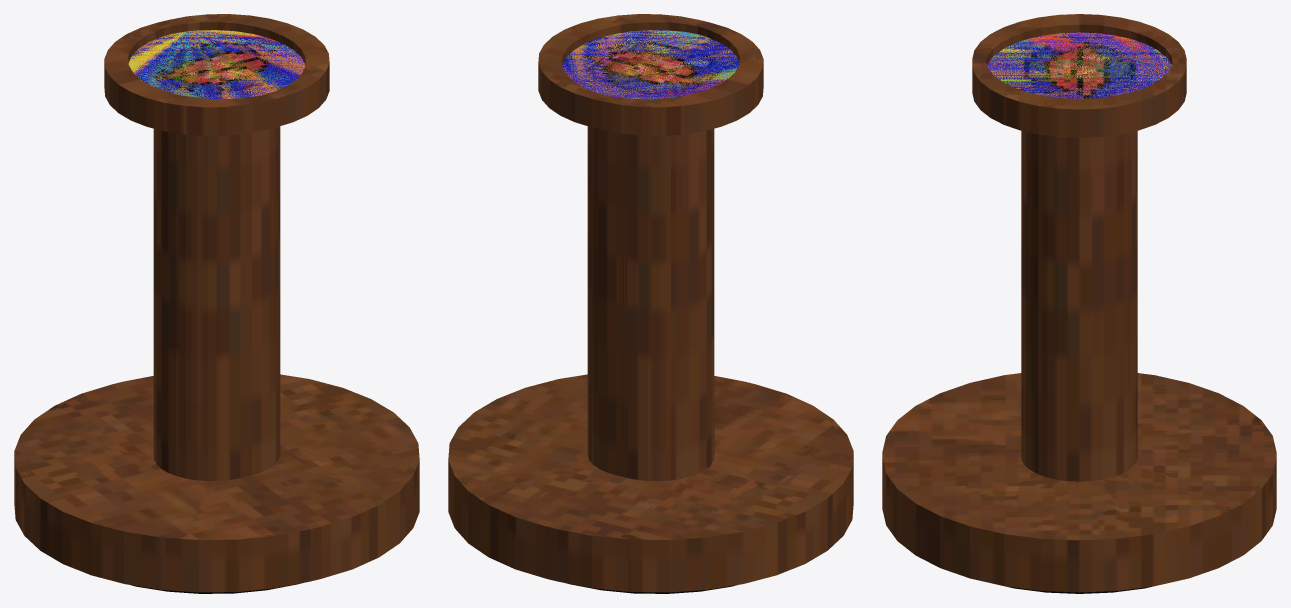
File: Stamps.fbx
The picture shows the model from 3 angles, left to right: view 1: azimuth 30°, elevation 25°; view 2: azimuth 150°, elevation 25°; view 3: azimuth 270°, elevation 25°; orthographic projection.
Visible parts, largest first — view 1: StampEnvy, StampGluttony, StampLust, StampGreed, StampWrath, StampPride, StampSloth; view 2: StampEnvy, StampGluttony, StampLust, StampGreed, StampPride, StampWrath, StampSloth; view 3: StampGluttony, StampLust, StampWrath, StampPride, StampEnvy, StampSloth, StampGreed.
Part boxes in pixels (x1=…): StampEnvy: x1=14, y1=17, x2=409, y2=593; StampGluttony: x1=25, y1=14, x2=419, y2=578; StampLust: x1=24, y1=14, x2=417, y2=579; StampGreed: x1=25, y1=15, x2=411, y2=579; StampWrath: x1=20, y1=16, x2=414, y2=583; StampPride: x1=16, y1=19, x2=409, y2=584; StampSloth: x1=21, y1=15, x2=405, y2=583; StampEnvy: x1=458, y1=18, x2=853, y2=593; StampGluttony: x1=448, y1=14, x2=842, y2=578; StampLust: x1=453, y1=14, x2=844, y2=579; StampGreed: x1=452, y1=15, x2=845, y2=579; StampPride: x1=471, y1=17, x2=851, y2=584; StampWrath: x1=460, y1=15, x2=846, y2=583; StampSloth: x1=455, y1=16, x2=848, y2=583; StampGluttony: x1=882, y1=19, x2=1276, y2=593; StampLust: x1=882, y1=18, x2=1276, y2=539; StampWrath: x1=882, y1=16, x2=1276, y2=536; StampPride: x1=882, y1=15, x2=1276, y2=535; StampEnvy: x1=882, y1=14, x2=1276, y2=534; StampSloth: x1=882, y1=16, x2=1276, y2=536; StampGreed: x1=882, y1=17, x2=1276, y2=538.
Bounding box in the file's own units: 20.82 × 25.91 × 20.22.
